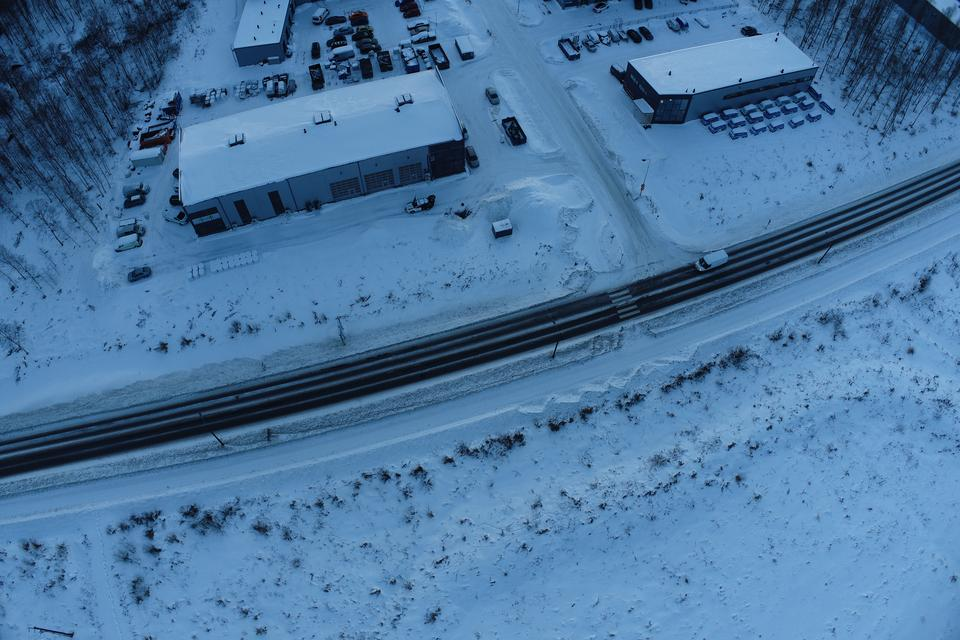intersection: (582, 191, 724, 349)
